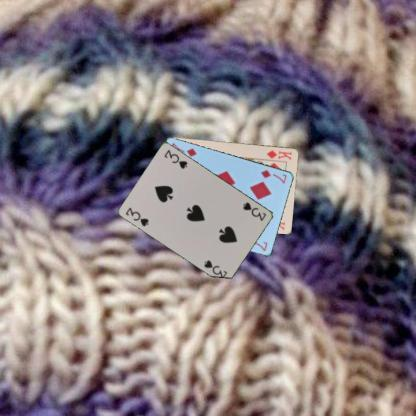3s: (123, 204, 150, 228), (240, 199, 268, 222)
7d: (259, 166, 288, 184)
Kd: (264, 147, 294, 161)
